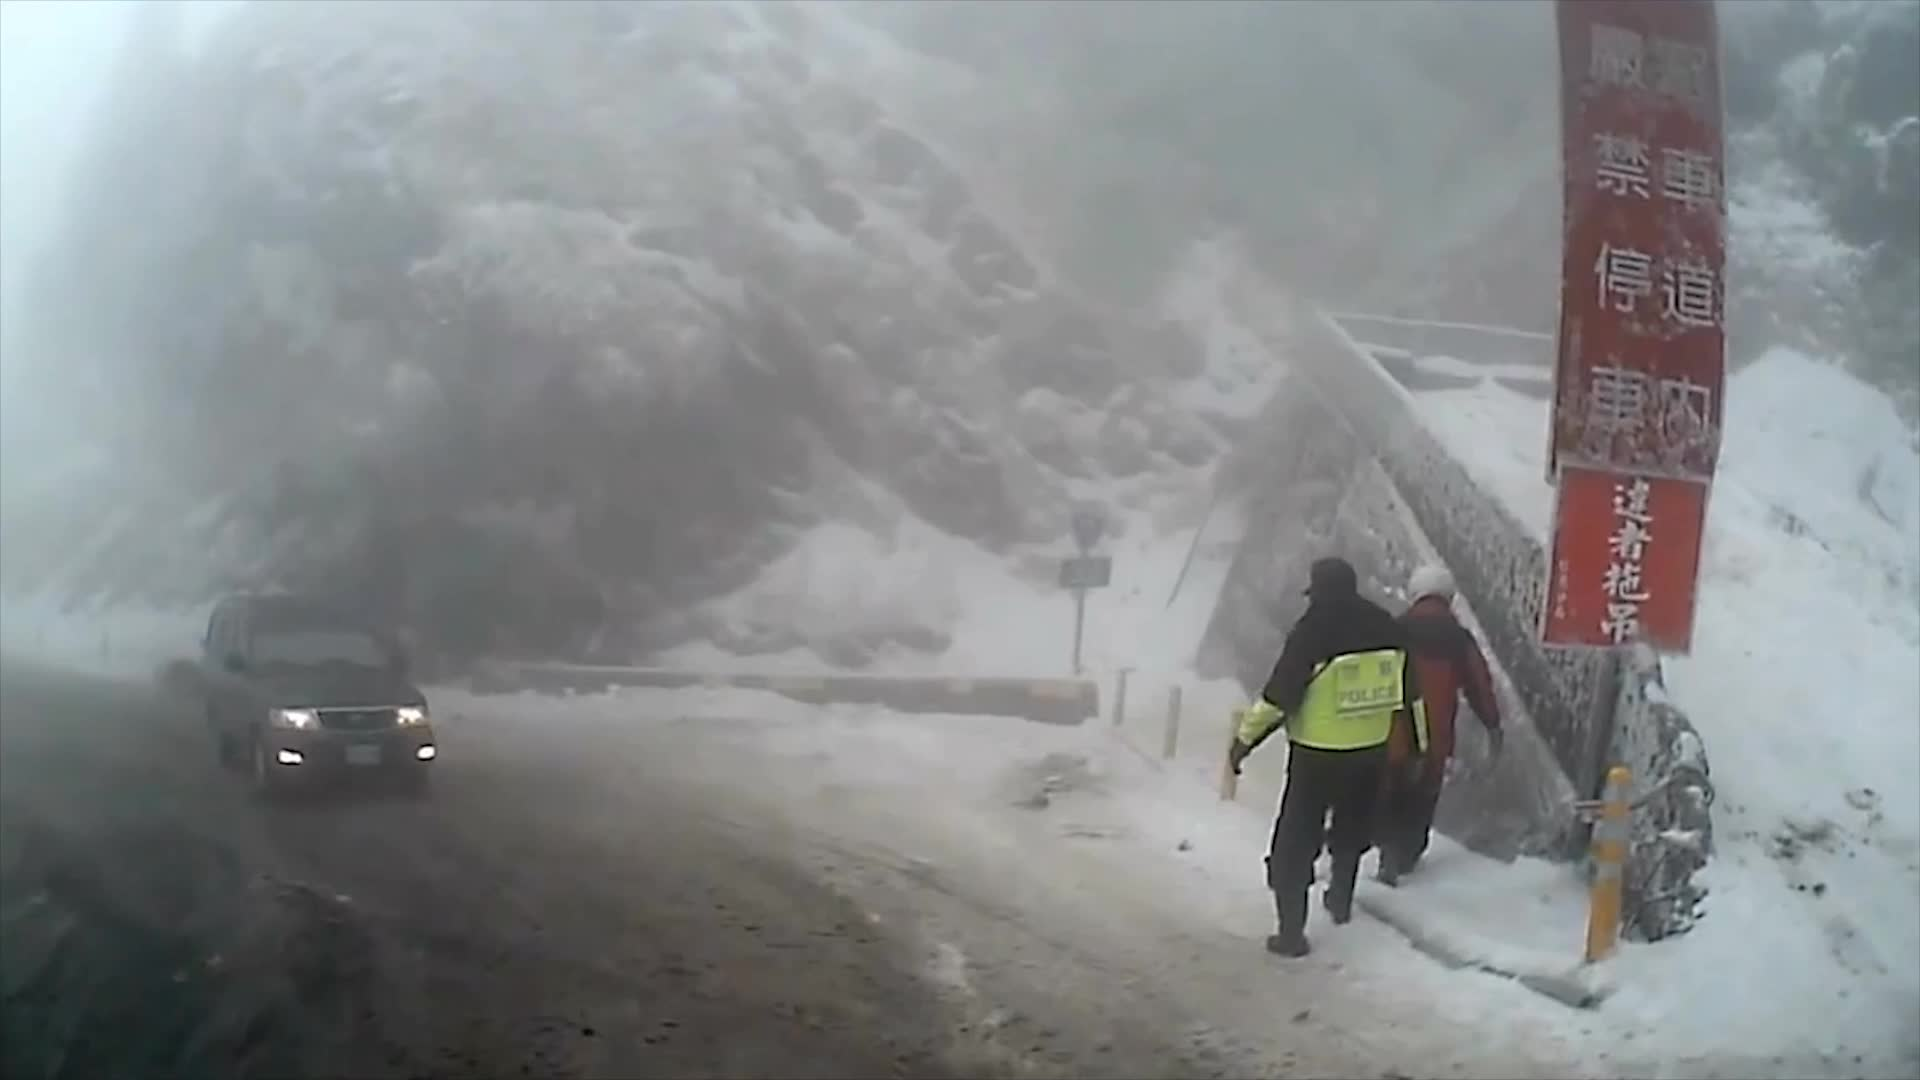pedestrian: (1227, 561, 1416, 963), (1367, 561, 1505, 882)
vehicle: (198, 593, 435, 802)
